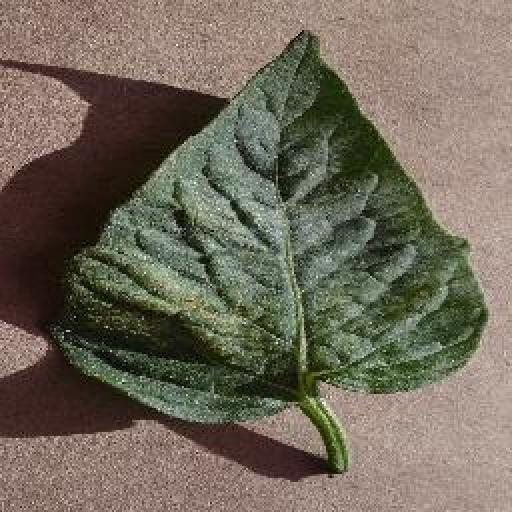Spider Mites: (47, 30, 488, 426)
